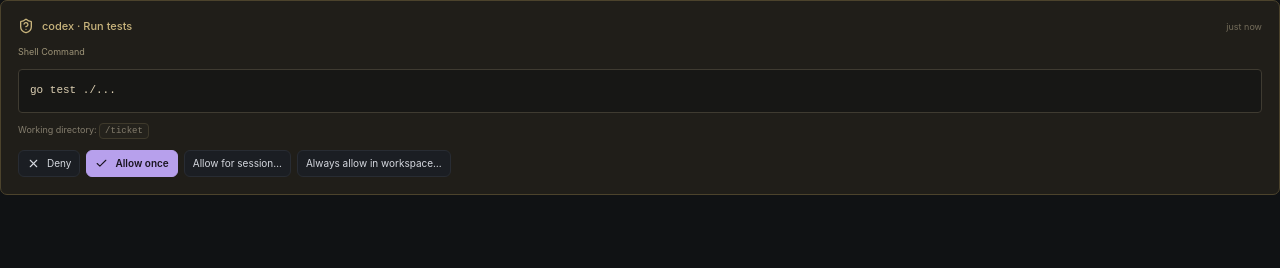
Scenario: keeps provider failures visible without claiming approval
This screenshot has width=1280, height=268.
Step 1. Click the button "Allow once" → {"x": 132, "y": 163}, box left=86, top=150, right=178, bottom=177
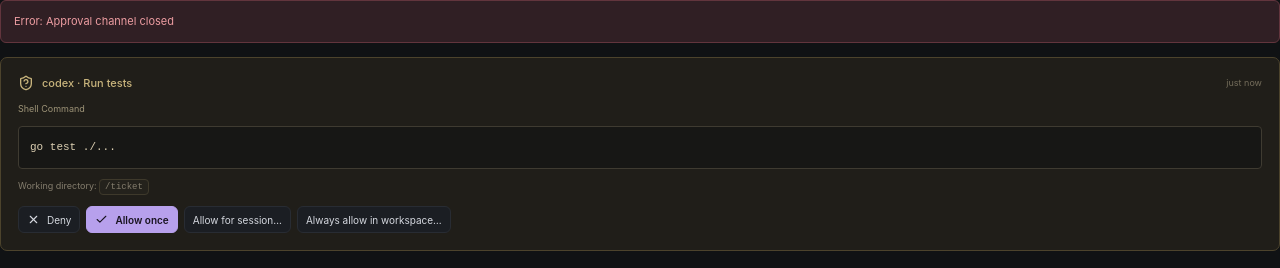
Result: the text "Error: Approval channel closed" is shown at left=0, top=0, right=1279, bottom=43
